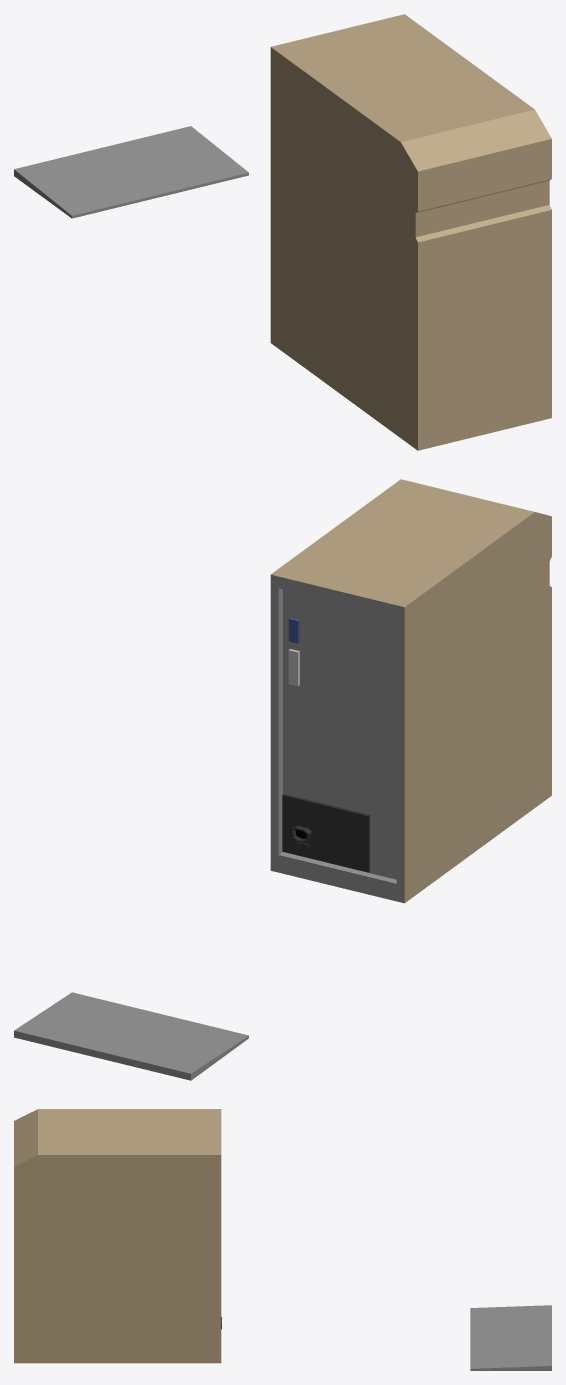
The model's file is ComputerParts.fbx.
3 renders of one model, top to bottom at view 1: azimuth 30°, elevation 25°; view 2: azimuth 150°, elevation 25°; view 3: azimuth 270°, elevation 25°, orthographic. The views are drawn at different scales.
Visible parts, largest first — view 1: Computer, Keyboard; view 2: Computer, Keyboard; view 3: Computer, Keyboard.
Part boxes in pixels (x1,y1,x2,y2): Computer: [270, 14, 551, 450]; Keyboard: [14, 126, 248, 218]; Computer: [270, 479, 551, 903]; Keyboard: [14, 992, 248, 1080]; Computer: [14, 1109, 221, 1363]; Keyboard: [470, 1305, 551, 1370].
Bounding box in the file's own units: 23.18 × 37.04 × 86.7.
